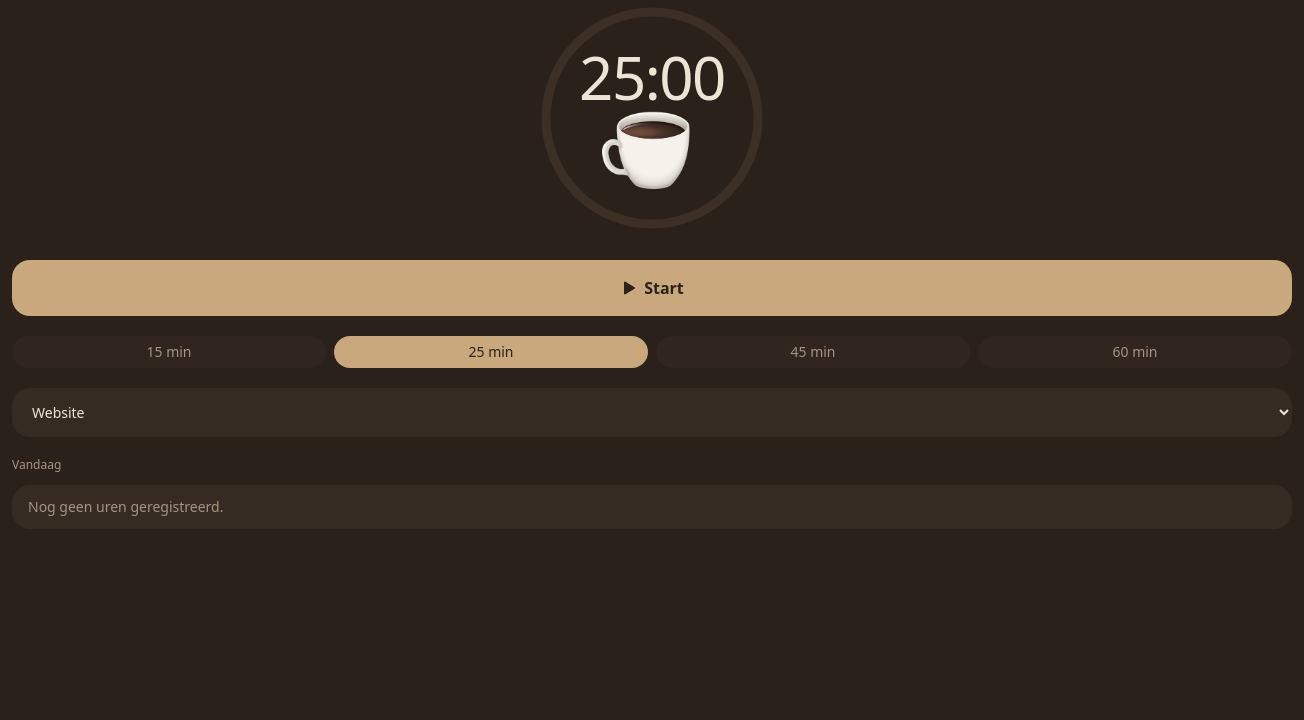
Test case: a block this session started › counts down and offers to stop, without asking anything
Step 1. Click the button "Start" → (652, 288), box x1=12 y1=260 x2=1292 y2=316
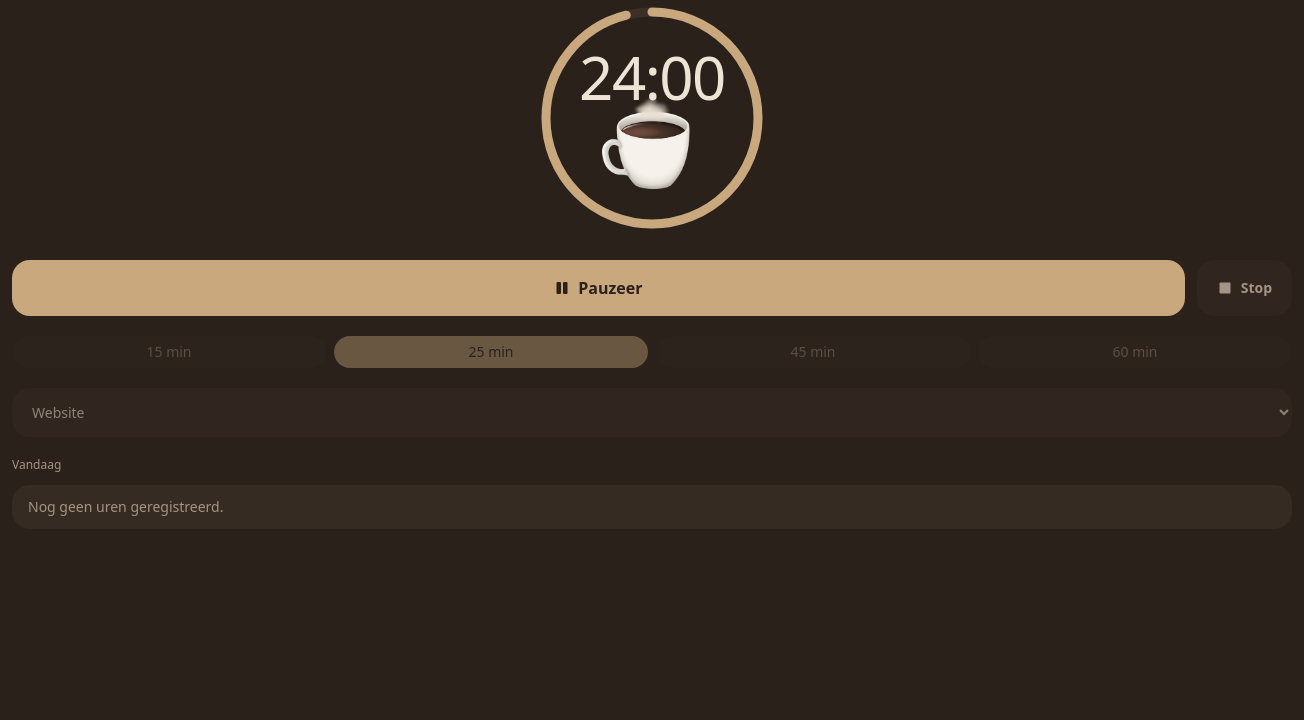
Expected: the button "Stop" is shown, x1=1197 y1=260 x2=1292 y2=316
Expected: the text "24:00" is shown, x1=579 y1=47 x2=725 y2=107
